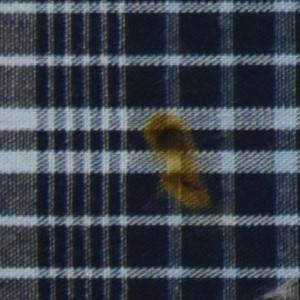Damage: (154, 124, 209, 204)
Oil Stain: (142, 110, 214, 212)
